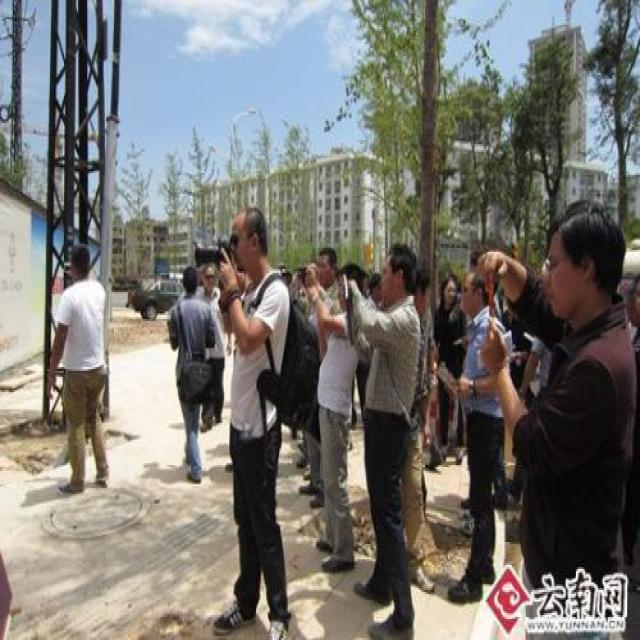no-helmet: (541, 202, 626, 328), (230, 208, 269, 282), (381, 242, 420, 310), (65, 233, 95, 290), (461, 267, 495, 317), (339, 258, 365, 310), (315, 242, 337, 288), (198, 259, 220, 302), (180, 260, 198, 304), (441, 265, 458, 308)
